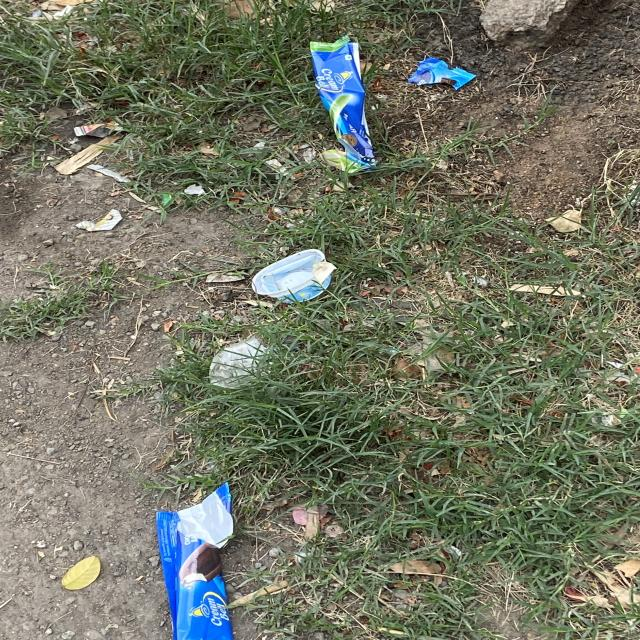giay_goi: (156, 485, 233, 640), (310, 35, 377, 173), (408, 56, 476, 88)
hop_nhua: (251, 249, 335, 303)
